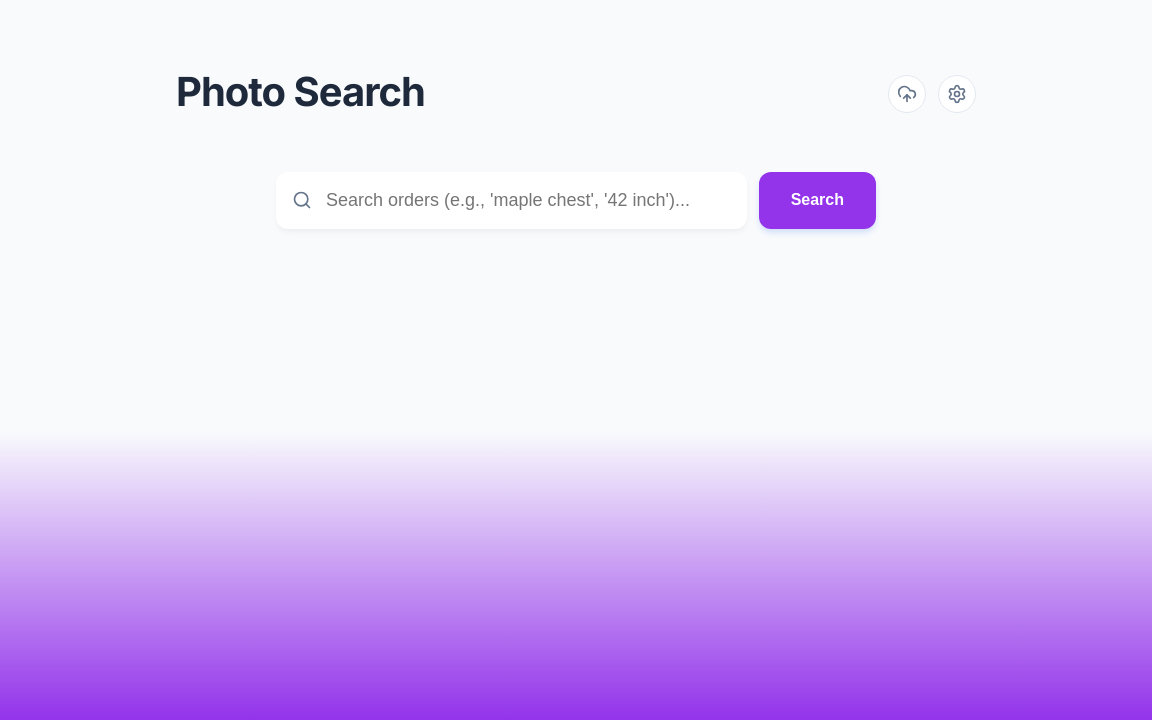
Test: SearchPage Additional Tests › displays no results message when search returns empty
The image size is (1152, 720).
Type "non-existent" into the field with placeholder "Search orders (e.g., 'maple chest', '42 inch')...".
click(511, 200); type("non-existent")  # box x1=276 y1=172 x2=747 y2=229
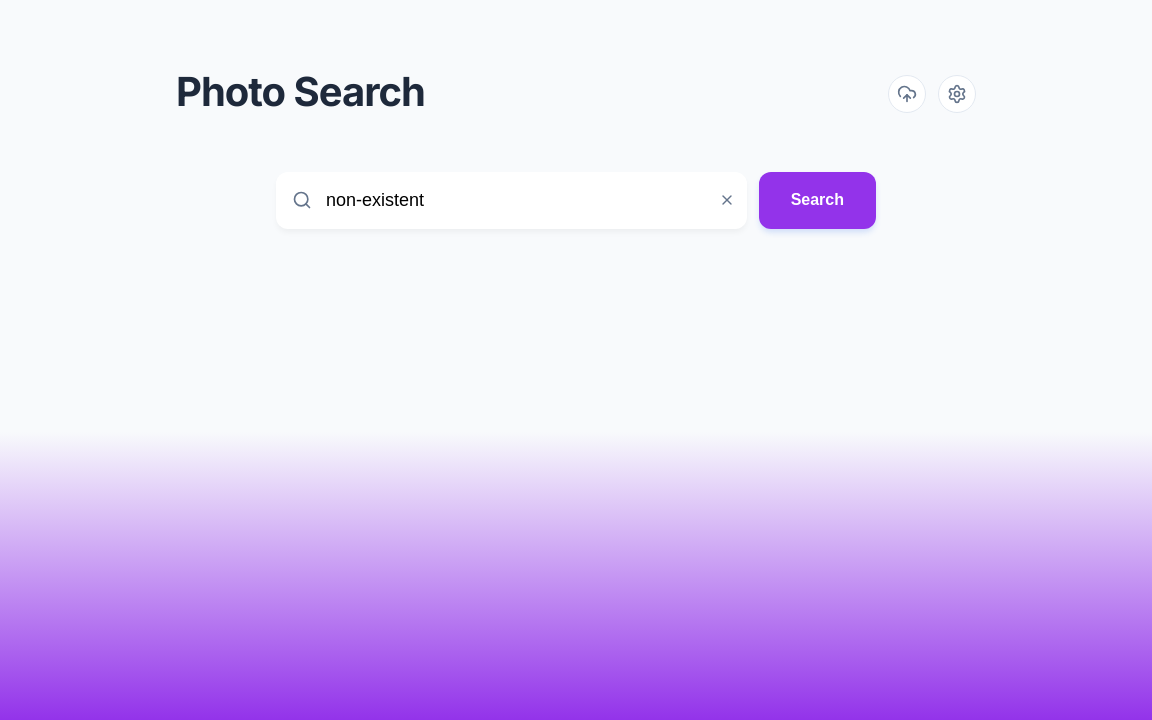
Click the button "Search".
click(817, 200)  # box x1=759 y1=172 x2=876 y2=229
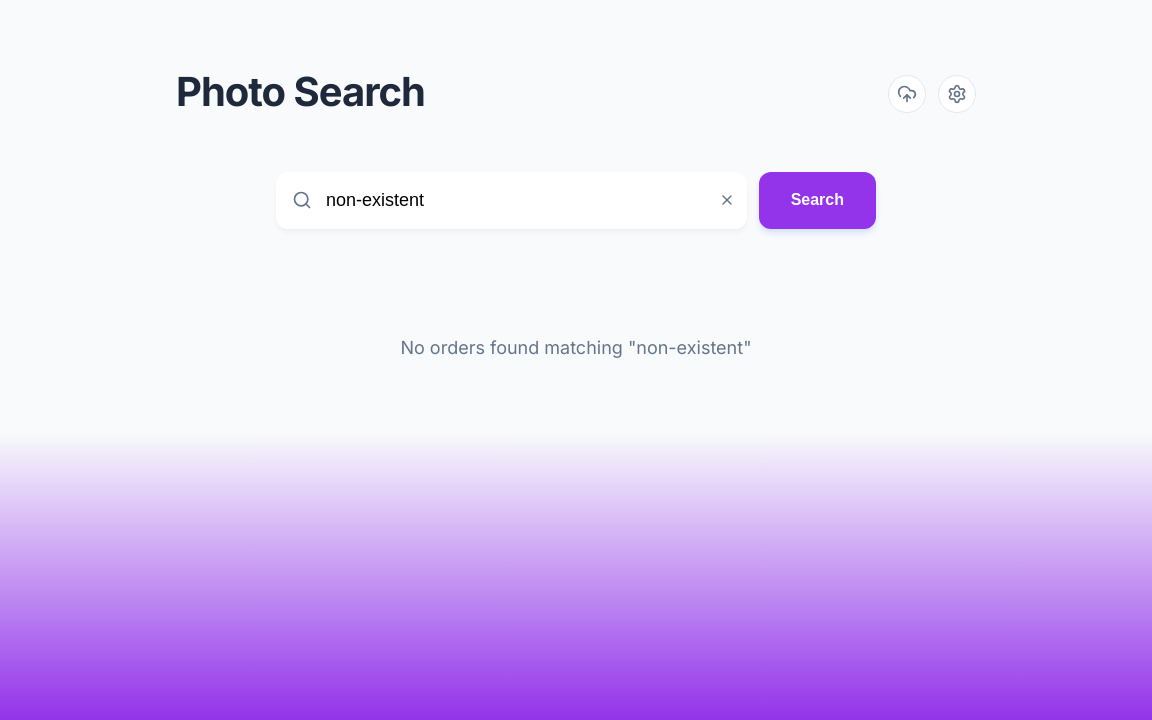
Now the text "No orders found matching \"non-existent\"" is shown, box x1=400 y1=337 x2=752 y2=358
